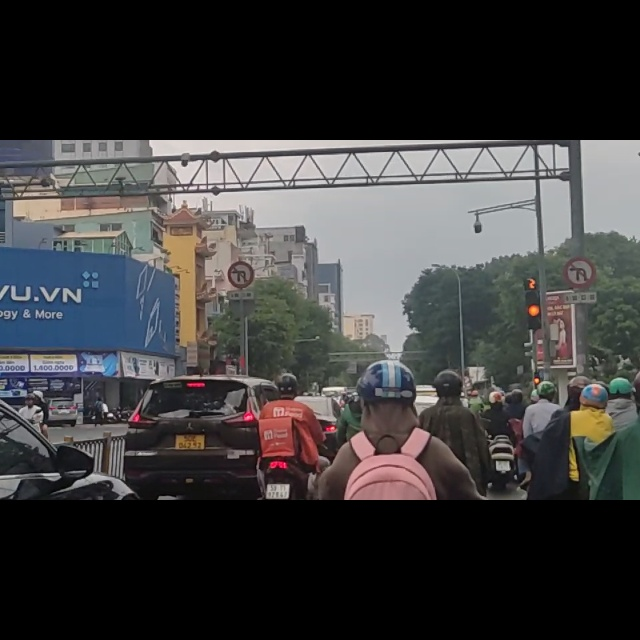bien_cam: (567, 212, 593, 260), (228, 216, 255, 262)
